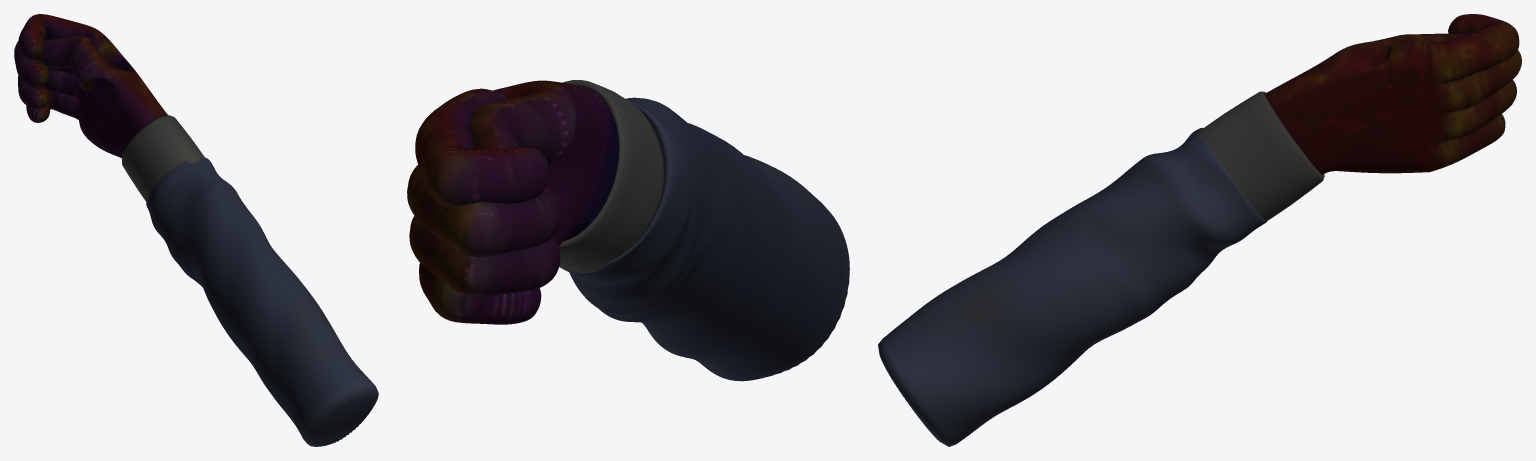
File: fp_hand_R_small.glb
3 views of the same model, side by side, from view 1: azimuth 30°, elevation 25°; view 2: azimuth 150°, elevation 25°; view 3: azimuth 270°, elevation 25° (orthographic). The views are drawn at different scales.
Parts seen in each view (by area): view 1: fp_hand_R_small; view 2: fp_hand_R_small; view 3: fp_hand_R_small.
Part boxes in pixels (left/top/right/bottom): fp_hand_R_small: left=14, top=14, right=378, bottom=446; fp_hand_R_small: left=407, top=80, right=849, bottom=381; fp_hand_R_small: left=878, top=14, right=1521, bottom=446.
Size of the model in its own units: 0.1327 by 0.256 by 0.4013.
Materials: 3 (1 with a texture image).
